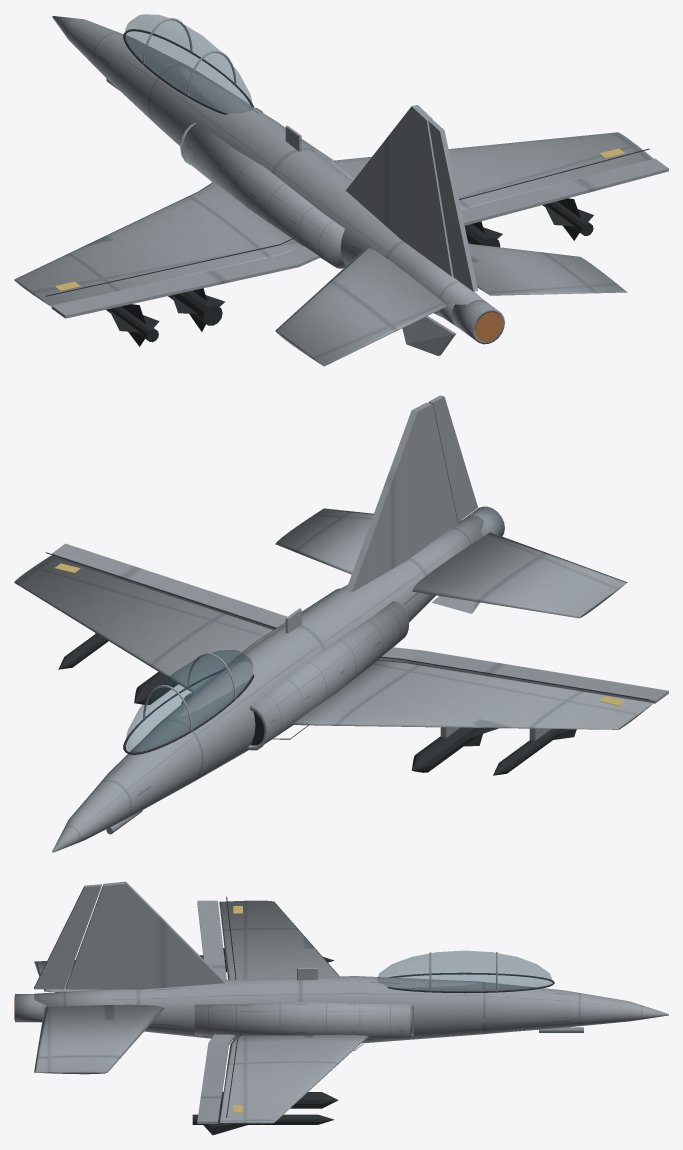
Rendered from wings_hawkt2.glb.
3 renders of one model, top to bottom at view 1: azimuth 30°, elevation 25°; view 2: azimuth 150°, elevation 25°; view 3: azimuth 270°, elevation 25°, orthographic. The views are drawn at different scales.
Visible parts, largest first — view 1: airframe_static, tailplane_L, canopy, tailplane_R, elevon_L, elevon_R, rudder_1, missile_L1, missile_L2, missile_R2, missile_R1, exhaust_core; view 2: airframe_static, tailplane_L, canopy, elevon_L, elevon_R, tailplane_R, rudder_1, missile_L1, missile_L2, missile_R1, missile_R2; view 3: airframe_static, tailplane_R, canopy, rudder_1, elevon_R, elevon_L, missile_R2, missile_R1.
Part boxes in pixels (x1=…): airframe_static: x1=14, y1=16, x2=653, y2=355; tailplane_L: x1=275, y1=248, x2=447, y2=366; canopy: x1=123, y1=14, x2=254, y2=114; tailplane_R: x1=468, y1=243, x2=627, y2=295; elevon_L: x1=51, y1=246, x2=319, y2=318; elevon_R: x1=461, y1=158, x2=668, y2=225; rudder_1: x1=428, y1=120, x2=477, y2=291; missile_L1: x1=168, y1=288, x2=225, y2=331; missile_L2: x1=106, y1=304, x2=159, y2=346; missile_R2: x1=542, y1=198, x2=593, y2=240; missile_R1: x1=464, y1=221, x2=502, y2=247; exhaust_core: x1=475, y1=312, x2=502, y2=341; airframe_static: x1=14, y1=402, x2=653, y2=852; tailplane_L: x1=412, y1=532, x2=627, y2=618; canopy: x1=123, y1=650, x2=254, y2=754; elevon_L: x1=379, y1=647, x2=668, y2=703; elevon_R: x1=51, y1=543, x2=287, y2=629; tailplane_R: x1=275, y1=508, x2=373, y2=574; rudder_1: x1=428, y1=395, x2=477, y2=522; missile_L1: x1=411, y1=727, x2=498, y2=772; missile_L2: x1=493, y1=729, x2=576, y2=775; missile_R1: x1=134, y1=672, x2=177, y2=704; missile_R2: x1=58, y1=634, x2=108, y2=669; airframe_static: x1=15, y1=881, x2=668, y2=1123; tailplane_R: x1=34, y1=1004, x2=164, y2=1074; canopy: x1=377, y1=950, x2=554, y2=993; rudder_1: x1=34, y1=884, x2=101, y2=989; elevon_R: x1=197, y1=1034, x2=235, y2=1123; elevon_L: x1=197, y1=900, x2=226, y2=979; missile_R2: x1=192, y1=1106, x2=334, y2=1135; missile_R1: x1=220, y1=1092, x2=338, y2=1108.
Bounding box in the file's own units: 9.94 × 3.89 × 12.45.
Materials: 7 (1 with a texture image).
